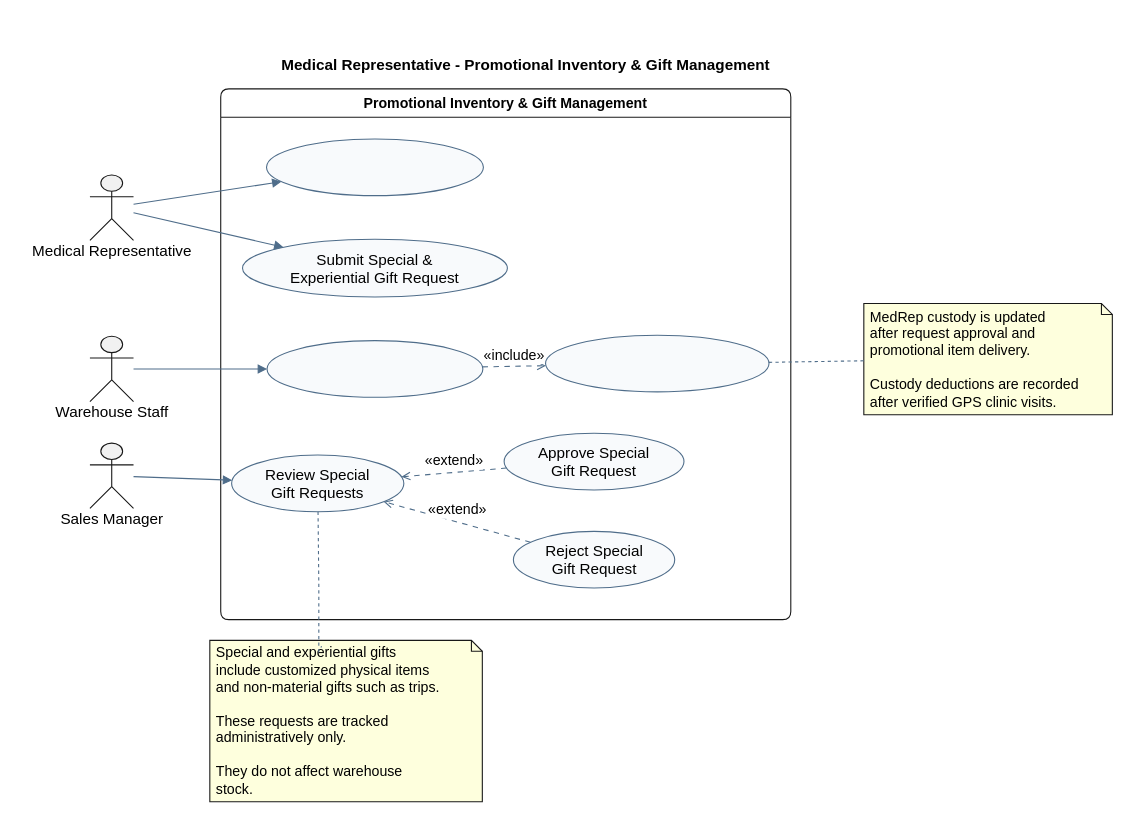
This 1131x821 diagram has some shape labels left out. Here are the shapes that lost their labels. From the top down, the centre of each, then its label:
the point at 374,167: Submit Promotional Custody Request
the point at 374,368: Record Promotional Item Delivery
the point at 656,363: Update MedRep Promotional Custody
